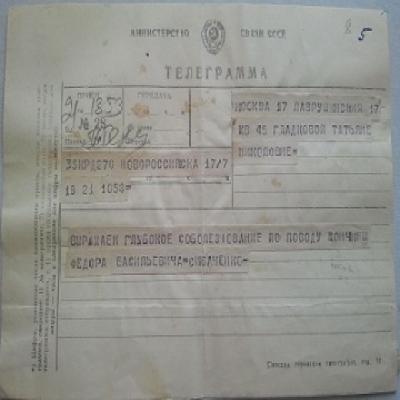document: (0, 5, 397, 399)
